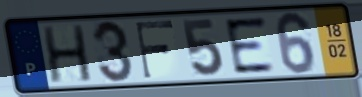3: (89, 18, 135, 85)
5: (179, 16, 225, 78)
6: (274, 9, 316, 77)
E: (222, 15, 278, 77)
F: (133, 18, 176, 81)
H: (40, 22, 95, 85)
